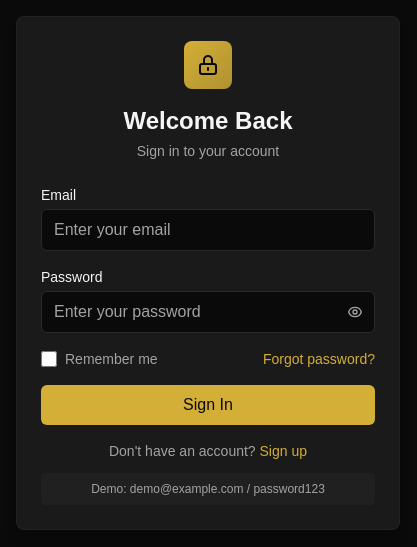
LoginPage › disables submit button during loading
Type "demo@example.com" into the field labelled "Email".
click(208, 230); type("demo@example.com")  # box left=41, top=209, right=375, bottom=251
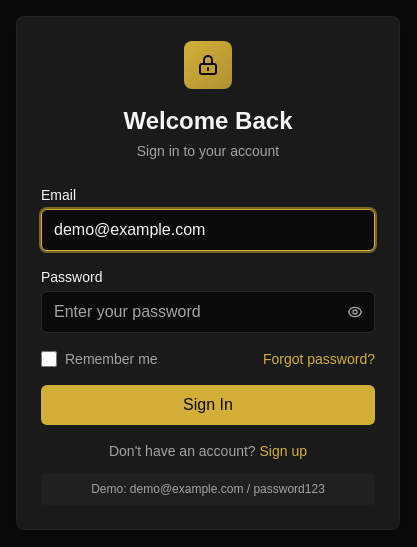
Type "password123" into the password field labelled "Password".
click(208, 312); type("password123")  # box left=41, top=291, right=375, bottom=333
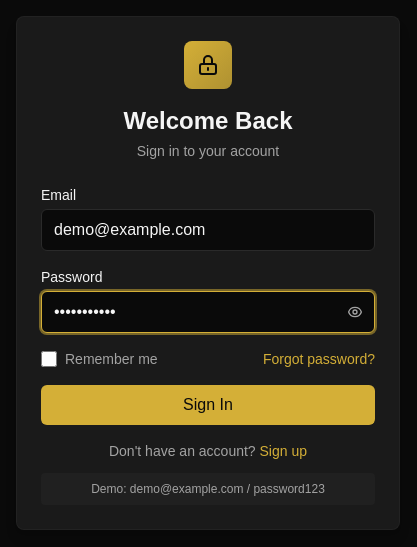
Click the button "Sign In".
click(208, 405)  # box left=41, top=385, right=375, bottom=425
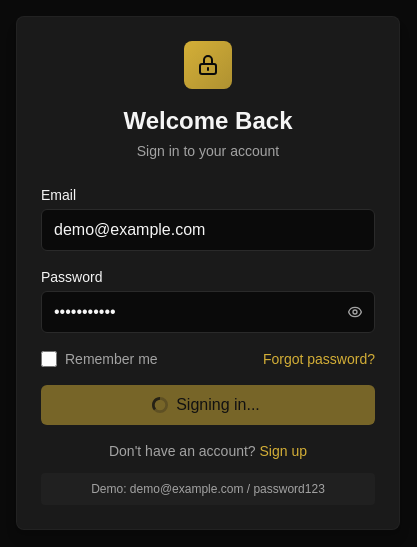
Check: the button named "Sign In" is disabled, box left=41, top=385, right=375, bottom=425
Check: the text "Signing in..." is shown, box left=152, top=396, right=260, bottom=413
